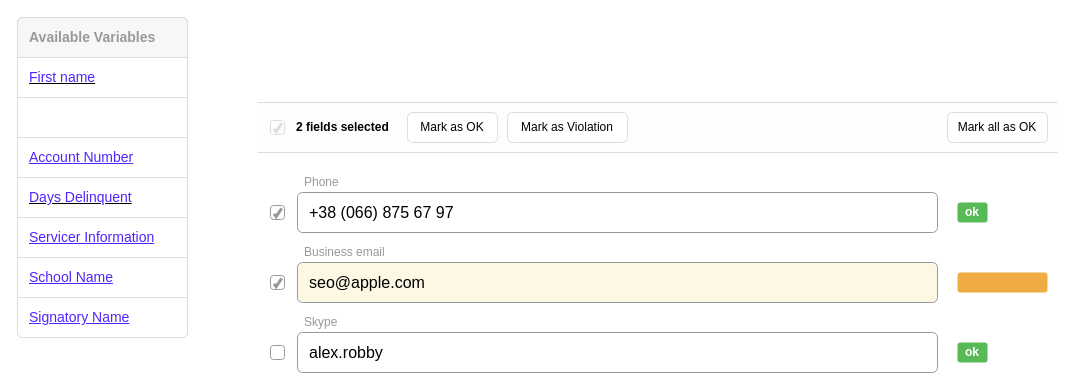
The diagram is 1075 pixels wide and 390 high, and some of its shapes have lost their labels. Each missing label, with the centre of its shape:
"Last name" belongs at (102,117).
"To Moderate" belongs at (1002,282).
